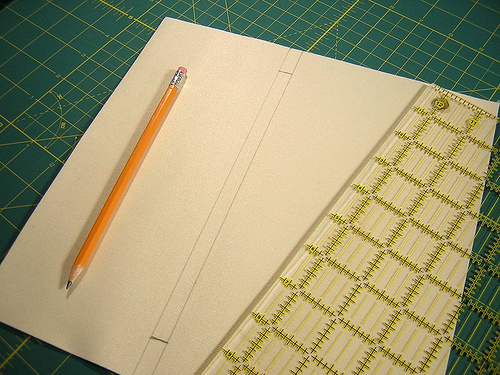pen_tip: (48, 262, 94, 302)
